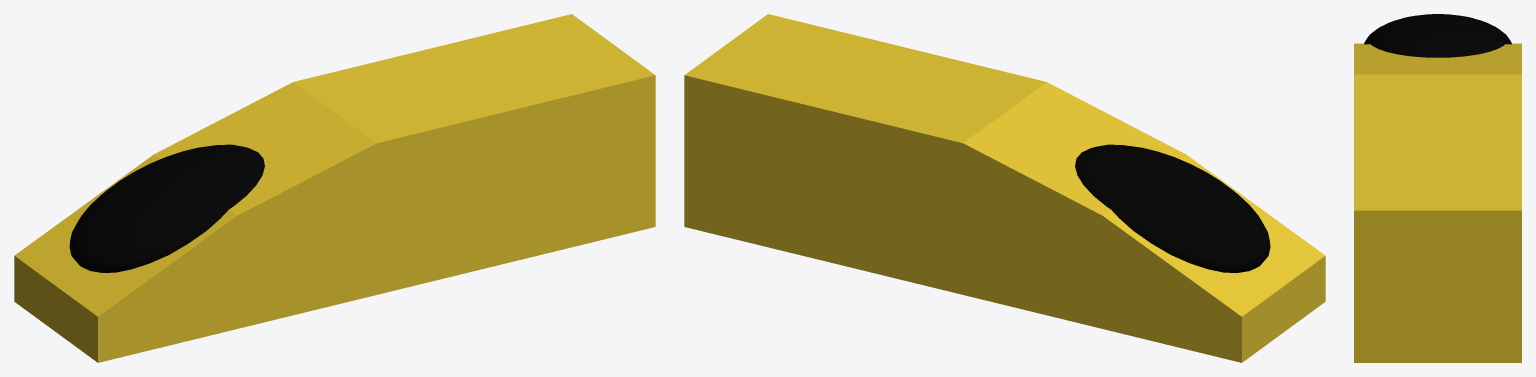
The model's file is spaceship_body.glb.
3 renders of one model, left to right at view 1: azimuth 30°, elevation 25°; view 2: azimuth 150°, elevation 25°; view 3: azimuth 270°, elevation 25°, orthographic.
Visible parts, largest first — view 1: Cube, Sphere; view 2: Cube, Sphere; view 3: Cube, Sphere.
Part boxes in pixels (left/top/right/bottom): Cube: left=14, top=14, right=655, bottom=362; Sphere: left=69, top=144, right=264, bottom=272; Cube: left=684, top=14, right=1325, bottom=362; Sphere: left=1075, top=144, right=1270, bottom=272; Cube: left=1354, top=43, right=1521, bottom=362; Sphere: left=1364, top=14, right=1511, bottom=57.
Size of the model in its own units: 60.78 by 15.8 by 15.8.
